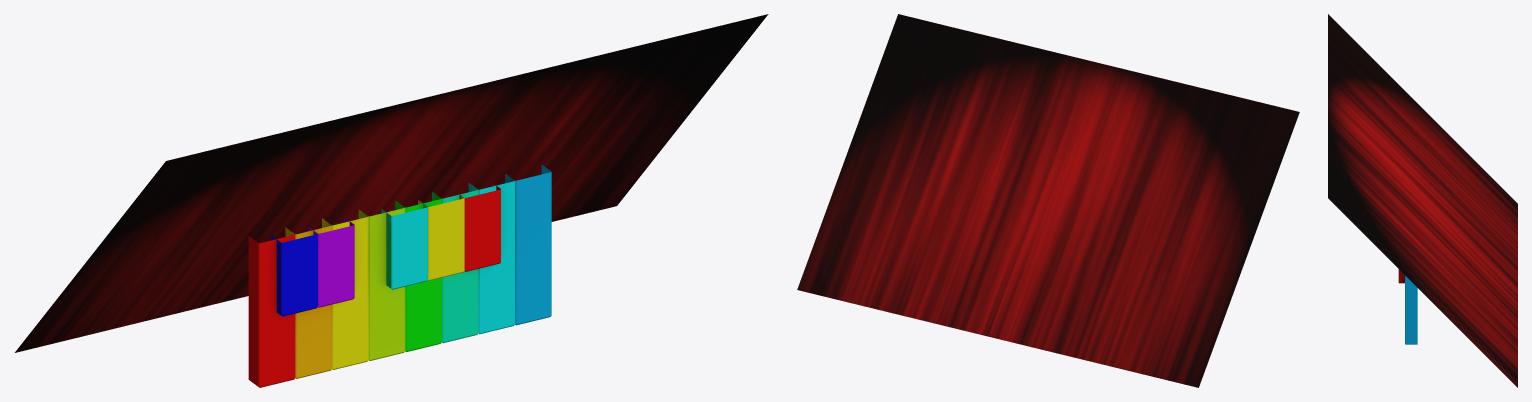
Rendered from piano.obj.
3 renders of one model, left to right at view 1: azimuth 30°, elevation 25°; view 2: azimuth 150°, elevation 25°; view 3: azimuth 270°, elevation 25°, orthographic. The views are drawn at different scales.
Visible parts, largest first — view 1: curtain, 00_01, 07_08, 03_04, 02_03, 06_07, 10_11, 08_09, 09_10, 12_13, 11_12, 04_05 (+2 smaller); view 2: curtain; view 3: curtain, 07_08.
Part boxes in pixels (left/top/right/bottom): curtain: left=15, top=14, right=768, bottom=352; 00_01: left=248, top=228, right=295, bottom=387; 07_08: left=505, top=164, right=551, bottom=325; 03_04: left=358, top=208, right=405, bottom=360; 02_03: left=322, top=211, right=368, bottom=369; 06_07: left=468, top=174, right=514, bottom=334; 10_11: left=381, top=204, right=427, bottom=289; 08_09: left=271, top=227, right=317, bottom=316; 09_10: left=308, top=218, right=354, bottom=307; 12_13: left=454, top=182, right=500, bottom=271; 11_12: left=418, top=195, right=464, bottom=280; 04_05: left=395, top=192, right=441, bottom=351; curtain: left=797, top=14, right=1299, bottom=387; curtain: left=1328, top=14, right=1517, bottom=387; 07_08: left=1405, top=275, right=1417, bottom=344.
Bounding box in the file's own units: 16.45 × 8.09 × 7.17.
